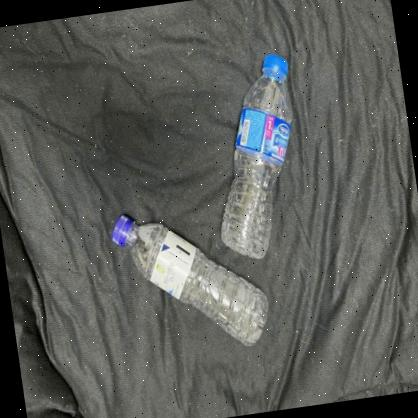bottle: (104, 195, 279, 356), (211, 42, 309, 267)
cap: (255, 50, 296, 84), (107, 215, 135, 250)
label: (138, 220, 206, 312), (231, 103, 299, 173)
